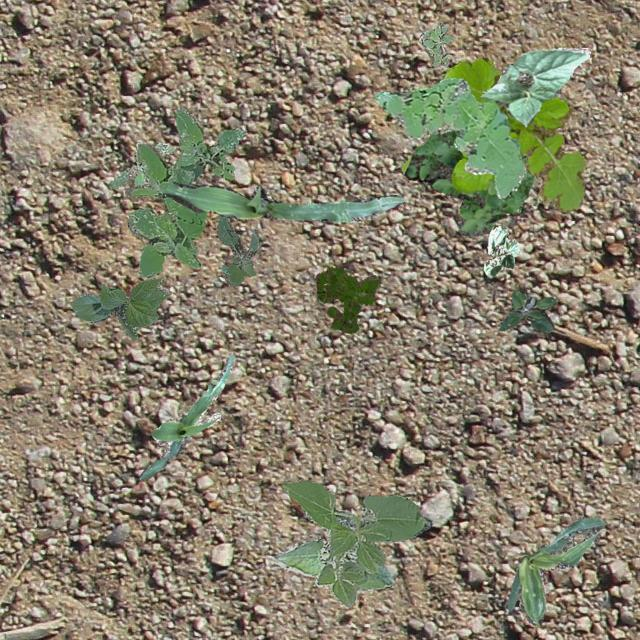crop: (274, 478, 432, 606), (138, 354, 234, 479), (504, 516, 604, 624), (163, 180, 404, 222), (480, 46, 590, 126), (68, 276, 170, 341), (482, 224, 518, 276)
weed: (443, 56, 585, 210), (123, 105, 244, 276), (374, 76, 524, 198), (400, 128, 534, 236), (314, 266, 380, 332), (108, 142, 174, 188), (215, 216, 258, 286), (498, 290, 554, 332), (418, 23, 453, 66)
